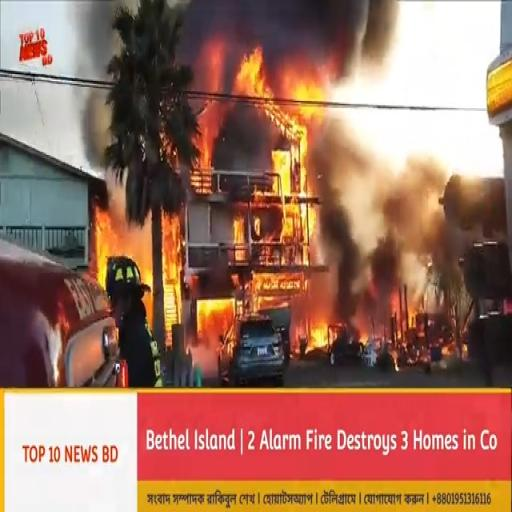fire: (238, 28, 277, 108), (278, 108, 308, 190), (148, 262, 182, 310), (98, 206, 121, 259), (196, 298, 235, 324)
smoke: (378, 150, 440, 283), (320, 168, 365, 308), (291, 0, 379, 61)
